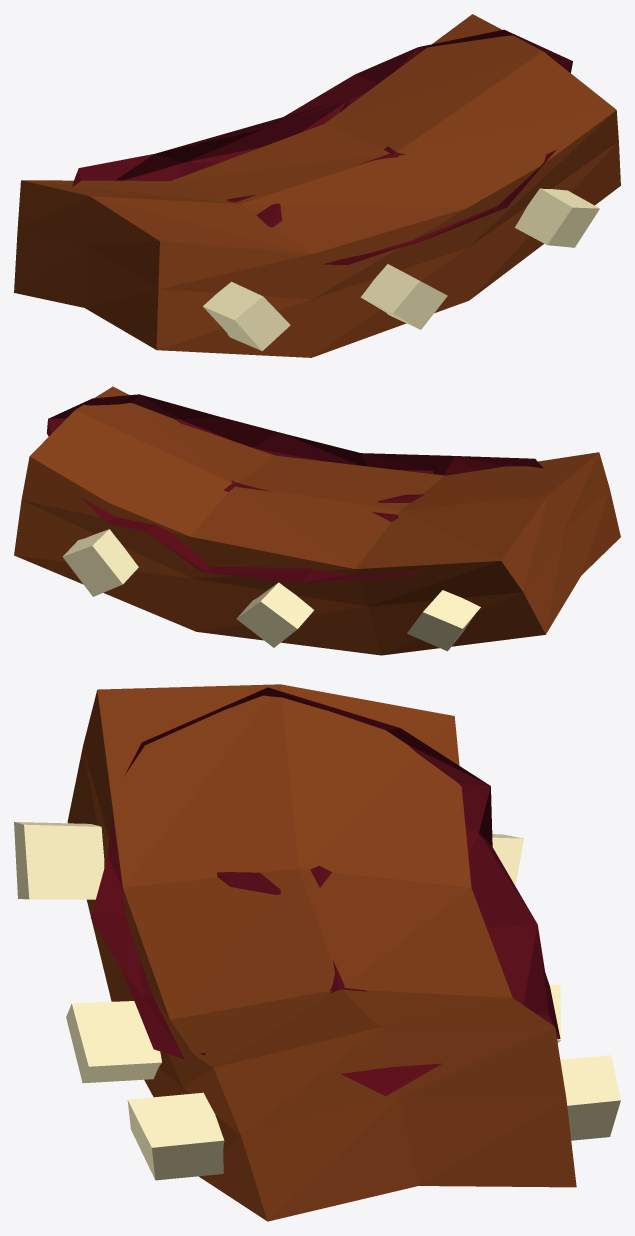
File: ribs.fbx
The picture shows the model from 3 angles, top to bottom: view 1: azimuth 30°, elevation 25°; view 2: azimuth 150°, elevation 25°; view 3: azimuth 270°, elevation 25°; orthographic projection. The views are drawn at different scales.
Visible parts, largest first — view 1: Cube; view 2: Cube; view 3: Cube.
Part boxes in pixels (box(x1,y1,x2,y2)): Cube: box(14, 14, 620, 357); Cube: box(14, 386, 620, 655); Cube: box(14, 684, 620, 1221).
Size of the model in its own units: 0.3812 by 0.1128 by 0.2461.
Materials: 2 (2 with a texture image).
